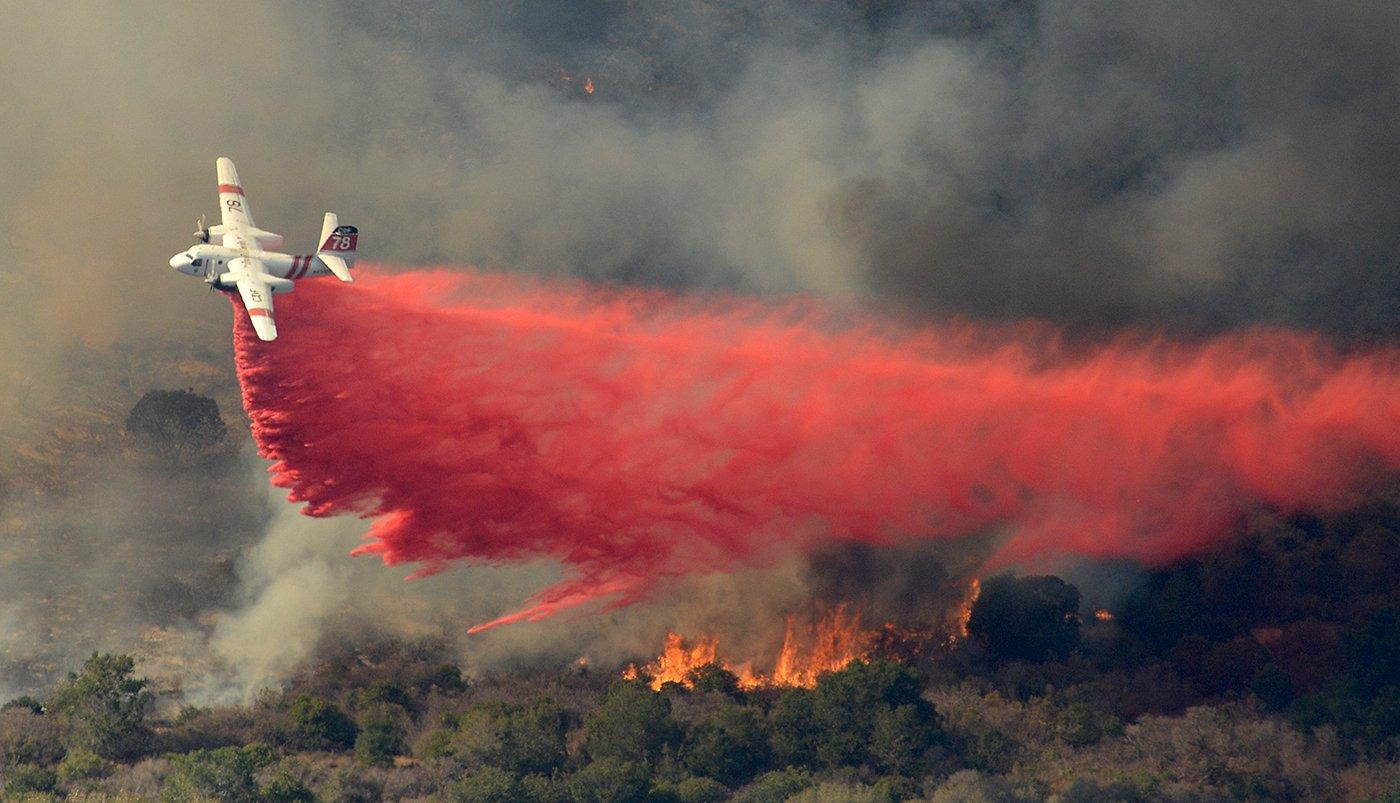fire: (624, 610, 914, 711)
